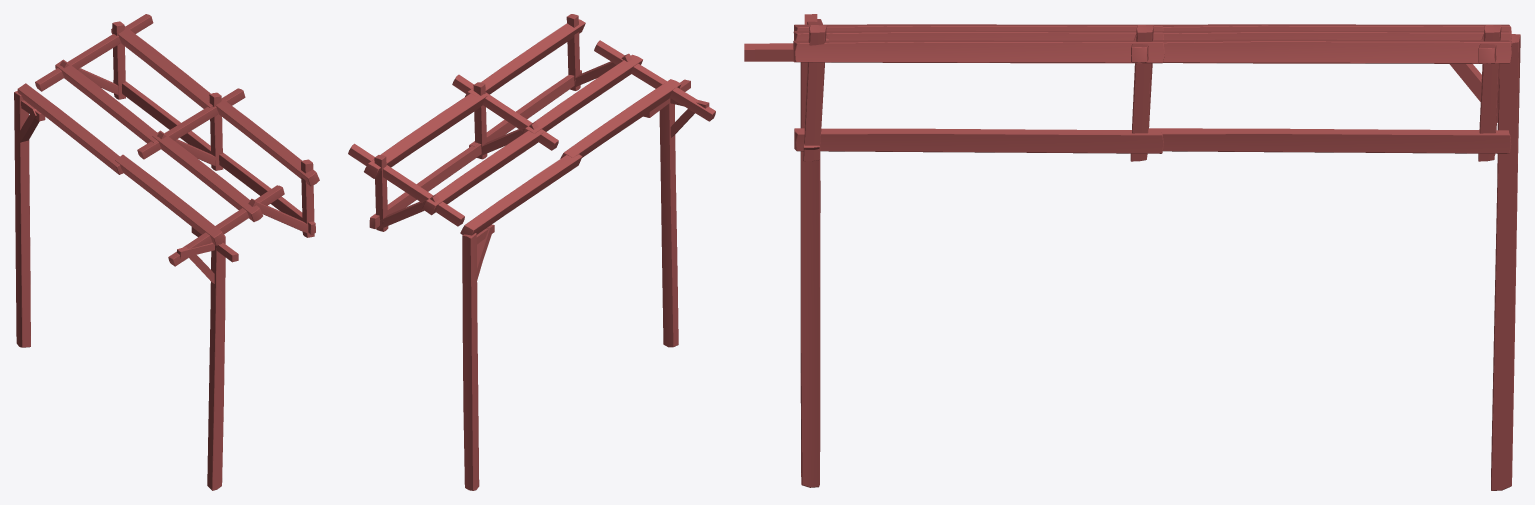
The model's file is Beam_Structure_23A_Lod0.fbx.
3 views of the same model, side by side, from view 1: azimuth 30°, elevation 25°; view 2: azimuth 150°, elevation 25°; view 3: azimuth 270°, elevation 25° (orthographic). The views are drawn at different scales.
Visible parts, largest first — view 1: Beam_Structure_23A_Lod0; view 2: Beam_Structure_23A_Lod0; view 3: Beam_Structure_23A_Lod0.
Part boxes in pixels (x1,y1,x2,y2): Beam_Structure_23A_Lod0: [14, 14, 319, 490]; Beam_Structure_23A_Lod0: [348, 14, 715, 490]; Beam_Structure_23A_Lod0: [744, 14, 1520, 490].
Bounding box in the file's own units: 280 × 480 × 620.
